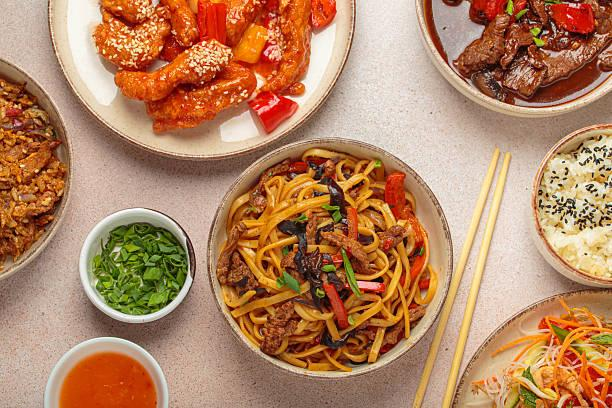Braised Crucian Carp: (205, 137, 447, 383), (51, 0, 348, 161), (416, 0, 612, 115)
